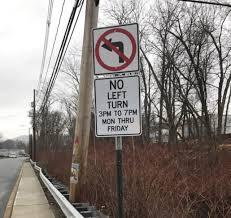no_left_turn: (94, 27, 135, 69)
